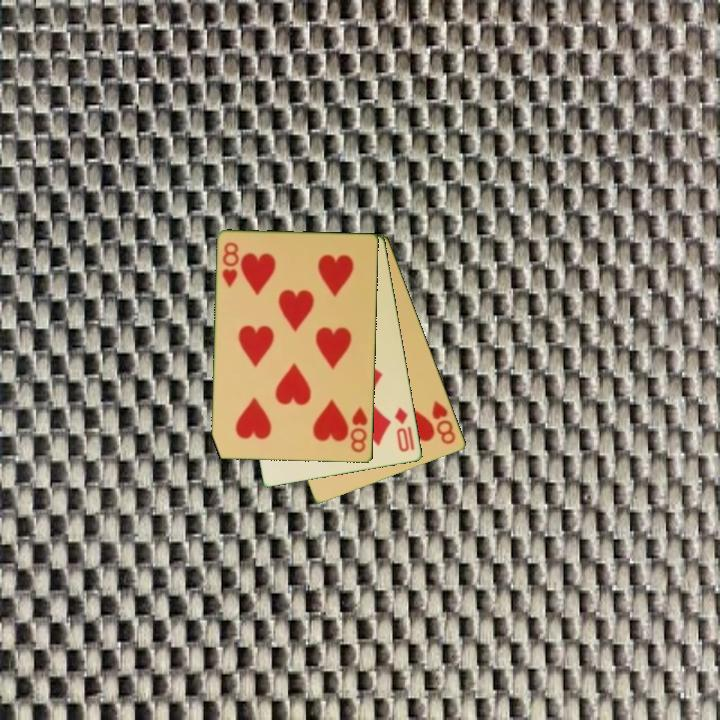10d: (391, 404, 418, 455)
8h: (428, 397, 459, 447), (347, 404, 371, 455), (219, 239, 242, 291)
